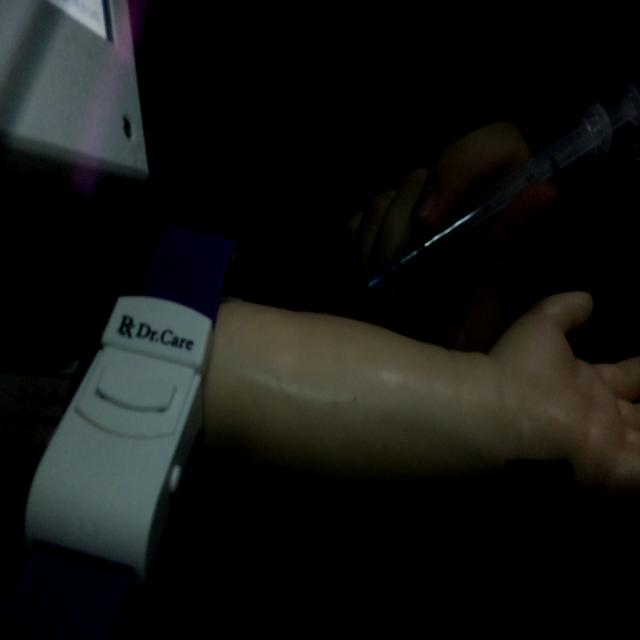23 degrees: (320, 78, 638, 317)
